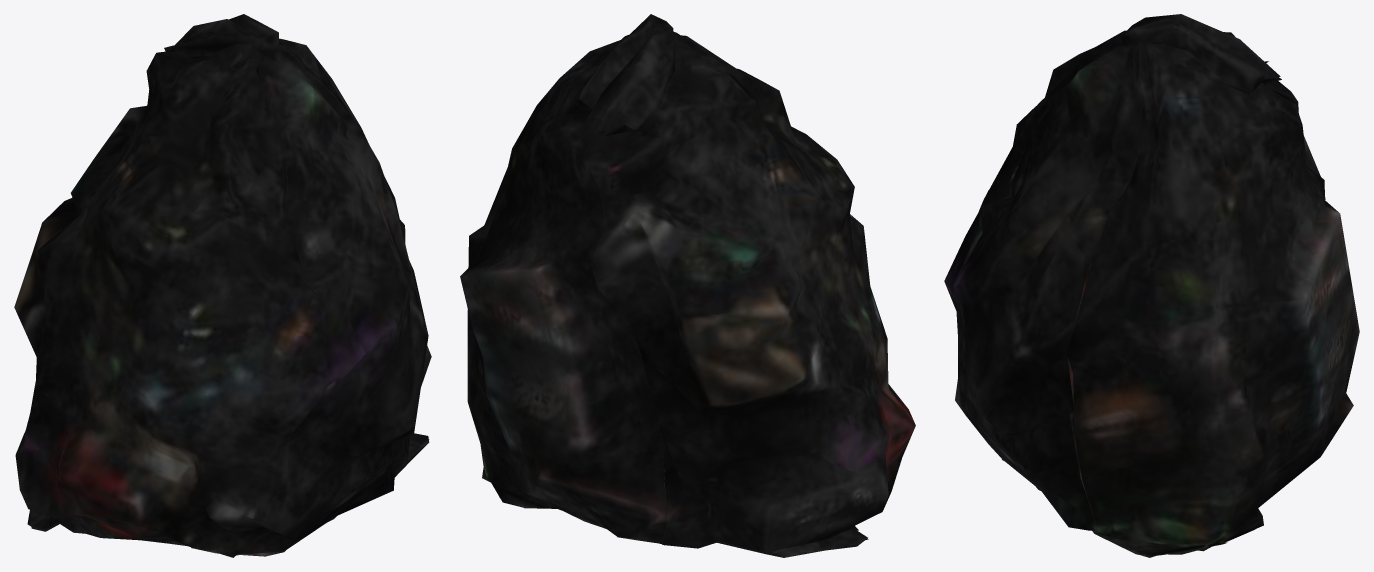
File: ph_trashbag.glb
The picture shows the model from 3 angles, left to right: view 1: azimuth 30°, elevation 25°; view 2: azimuth 150°, elevation 25°; view 3: azimuth 270°, elevation 25°; orthographic projection.
Visible parts, largest first — view 1: trashbag; view 2: trashbag; view 3: trashbag.
Boxes of the visible parts, x1,y1,x2,y2 form: trashbag: (14,14,431,557); trashbag: (460,14,915,557); trashbag: (944,14,1359,557).
Bounding box in the file's own units: 0.5233 × 0.5749 × 0.466.
Materials: 1 (1 with a texture image).
